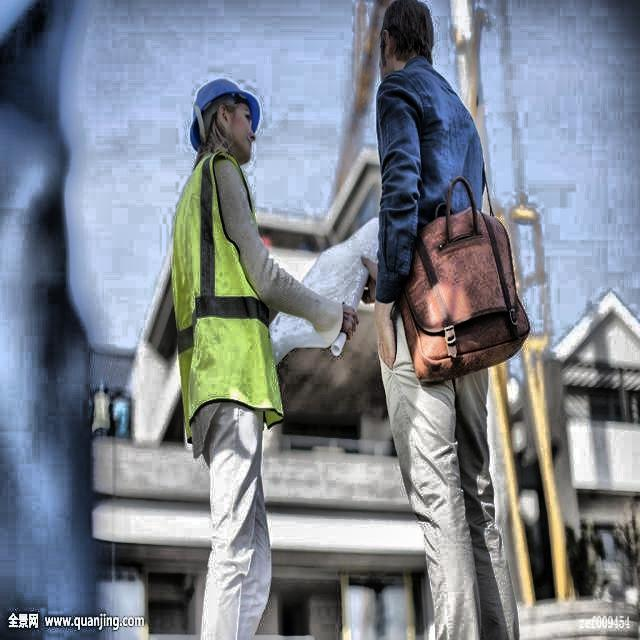person: (362, 0, 543, 630), (167, 63, 317, 634)
